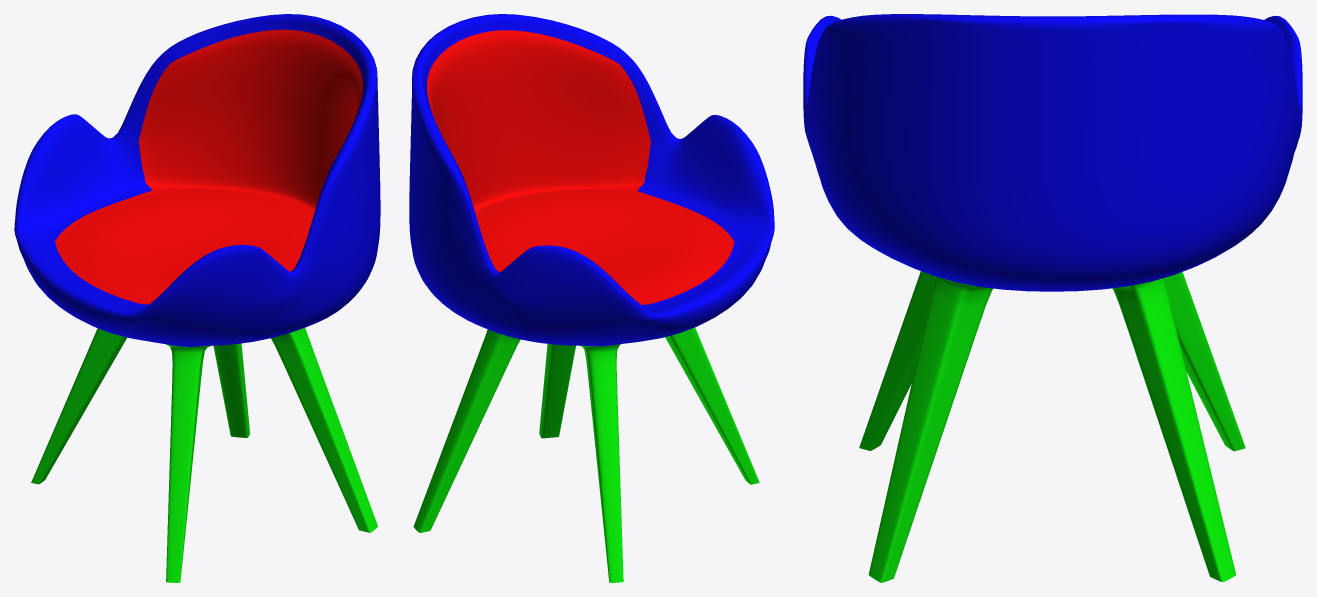
The model's file is chair-Highpoly.fbx.
The picture shows the model from 3 angles, left to right: view 1: azimuth 30°, elevation 25°; view 2: azimuth 150°, elevation 25°; view 3: azimuth 270°, elevation 25°; orthographic projection. The views are drawn at different scales.
Parts seen in each view (by area): view 1: Chair Highpoly; view 2: Chair Highpoly; view 3: Chair Highpoly.
Boxes of the visible parts, x1,y1,x2,y2 form: Chair Highpoly: (14, 14, 380, 582); Chair Highpoly: (409, 14, 774, 582); Chair Highpoly: (803, 14, 1302, 582).
Bounding box in the file's own units: 67.27 × 92.96 × 71.5.
